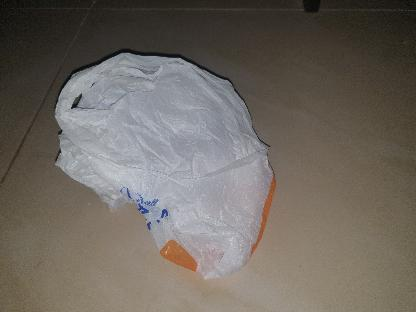Plastic Bag: (43, 42, 284, 288)
